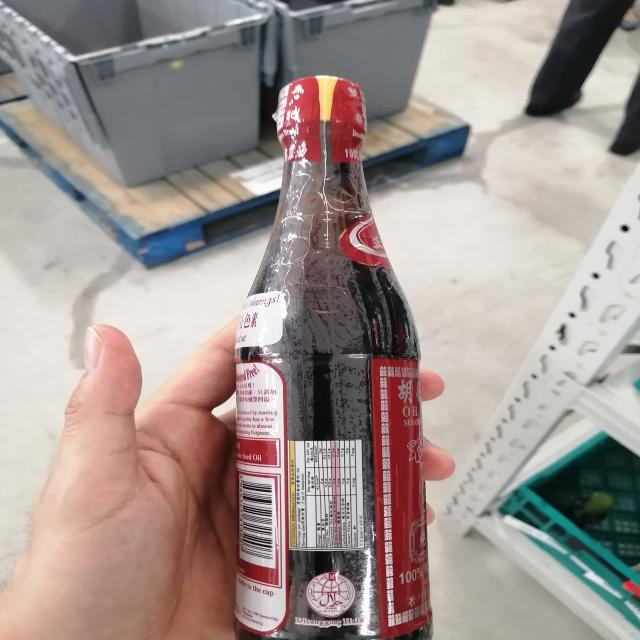object_name: (233, 83, 432, 640)
